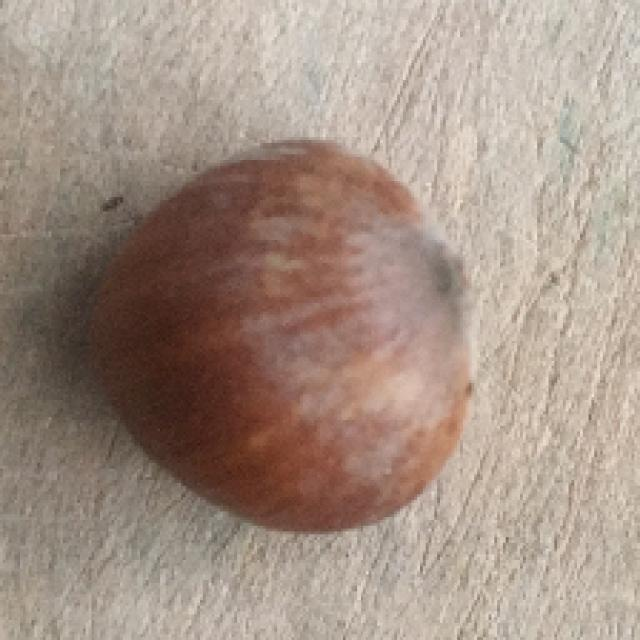qualityHazelnut: (89, 136, 478, 532)
